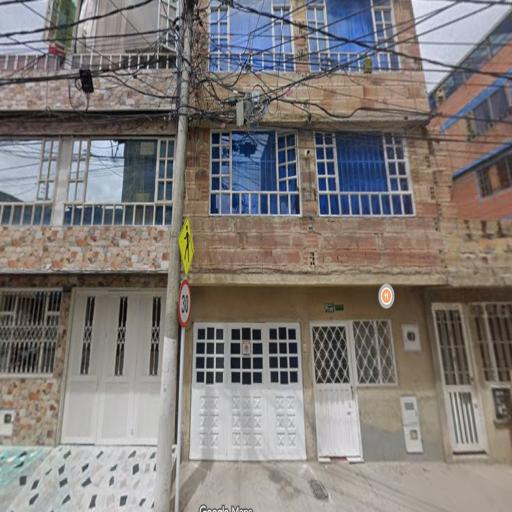Casa: (180, 0, 436, 466), (0, 0, 184, 449), (431, 218, 512, 470), (428, 0, 512, 221)
postes: (153, 0, 202, 512)
